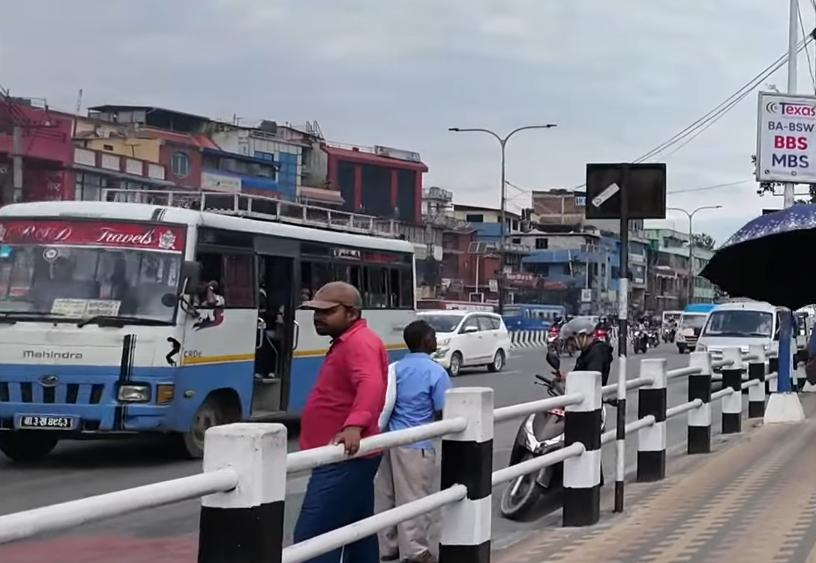bus: (0, 173, 431, 475)
